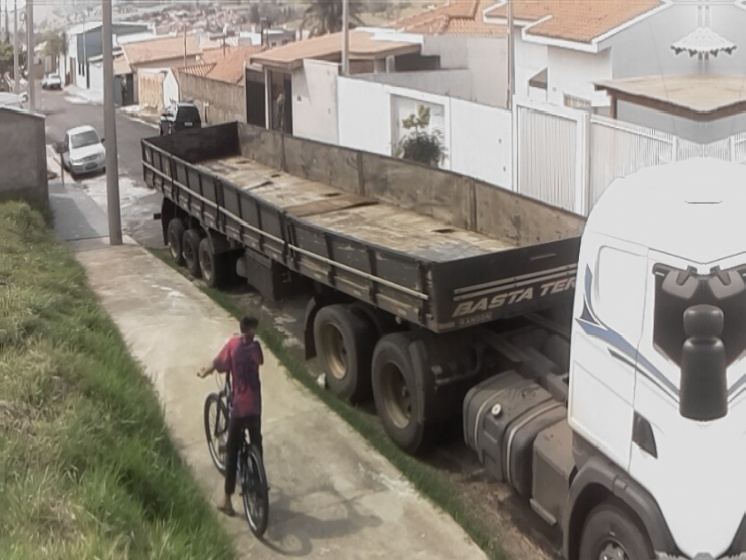person: (195, 315, 272, 523)
